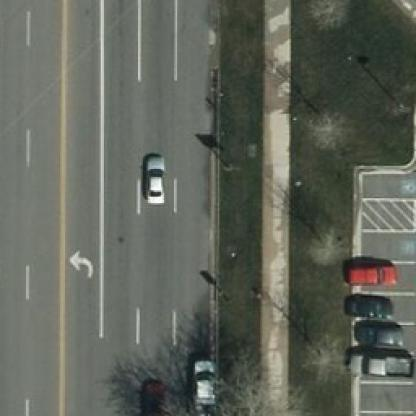car: (341, 258, 403, 288), (344, 318, 406, 348), (348, 348, 410, 377), (190, 358, 221, 414), (336, 288, 398, 316), (144, 151, 168, 202)
